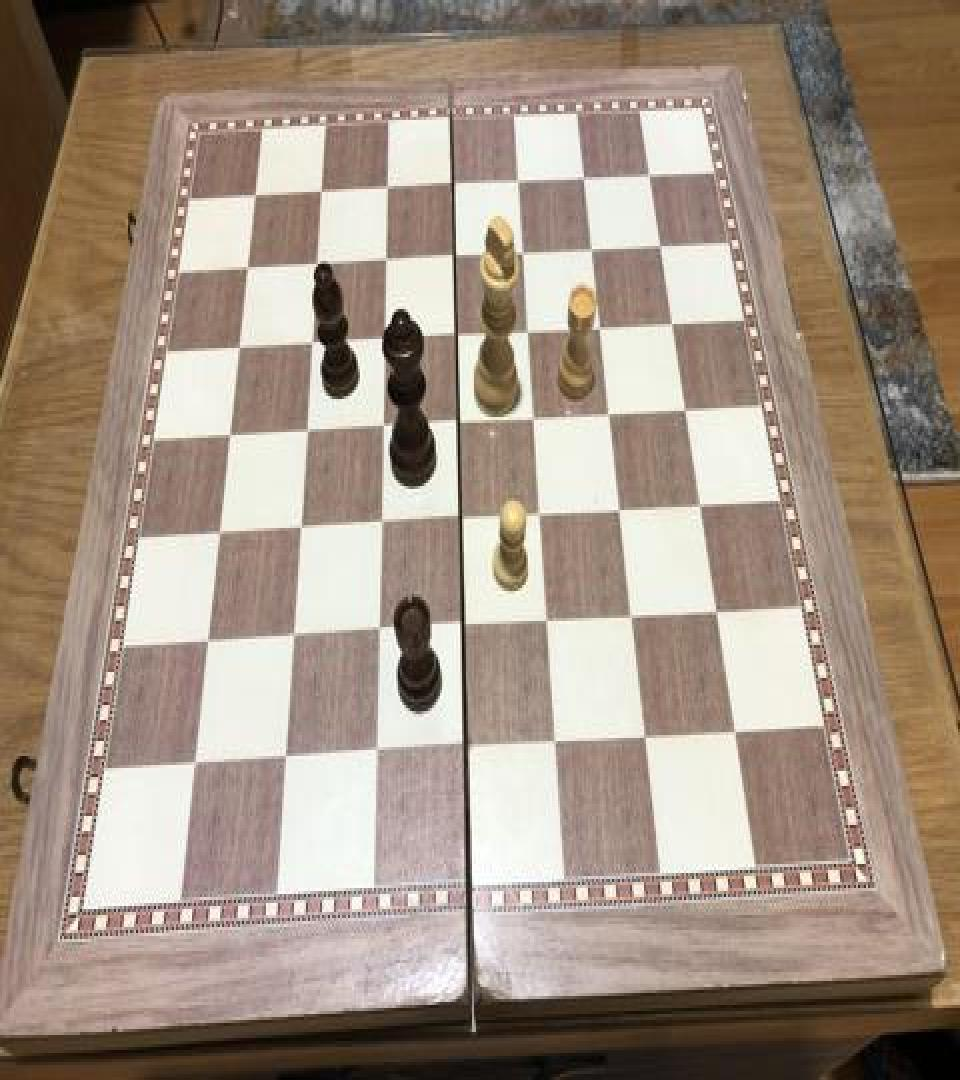xcorner: (195, 622, 219, 659), (630, 718, 654, 755), (361, 733, 385, 770), (271, 739, 295, 776), (637, 159, 661, 195), (571, 164, 595, 200), (506, 168, 530, 204), (441, 171, 465, 207), (376, 176, 400, 212), (310, 180, 334, 216), (245, 183, 269, 219), (647, 230, 671, 266), (579, 234, 603, 270), (510, 238, 534, 274), (442, 242, 466, 278), (374, 246, 398, 282), (305, 250, 329, 286), (237, 255, 261, 291), (659, 308, 683, 344), (587, 312, 611, 348), (515, 315, 539, 351), (443, 320, 467, 356), (372, 324, 396, 360), (228, 333, 252, 369), (672, 393, 696, 429), (596, 398, 620, 434), (520, 402, 544, 438), (445, 406, 469, 442), (369, 411, 393, 447), (294, 416, 318, 452), (218, 420, 242, 456), (686, 488, 710, 524), (606, 492, 630, 528), (526, 496, 550, 532), (446, 501, 470, 537), (367, 506, 391, 542), (287, 512, 311, 548), (207, 516, 231, 552), (702, 594, 726, 630), (618, 598, 642, 634), (533, 603, 557, 639), (448, 609, 472, 645), (364, 614, 388, 650), (279, 618, 303, 654), (720, 714, 744, 750), (540, 724, 564, 760), (450, 729, 474, 765), (181, 744, 205, 780), (300, 329, 324, 364)
